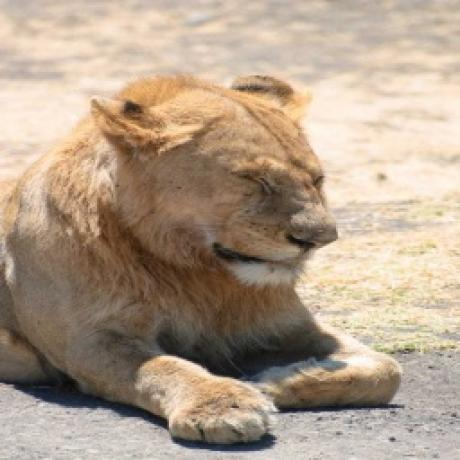Lion: (0, 66, 405, 454)
